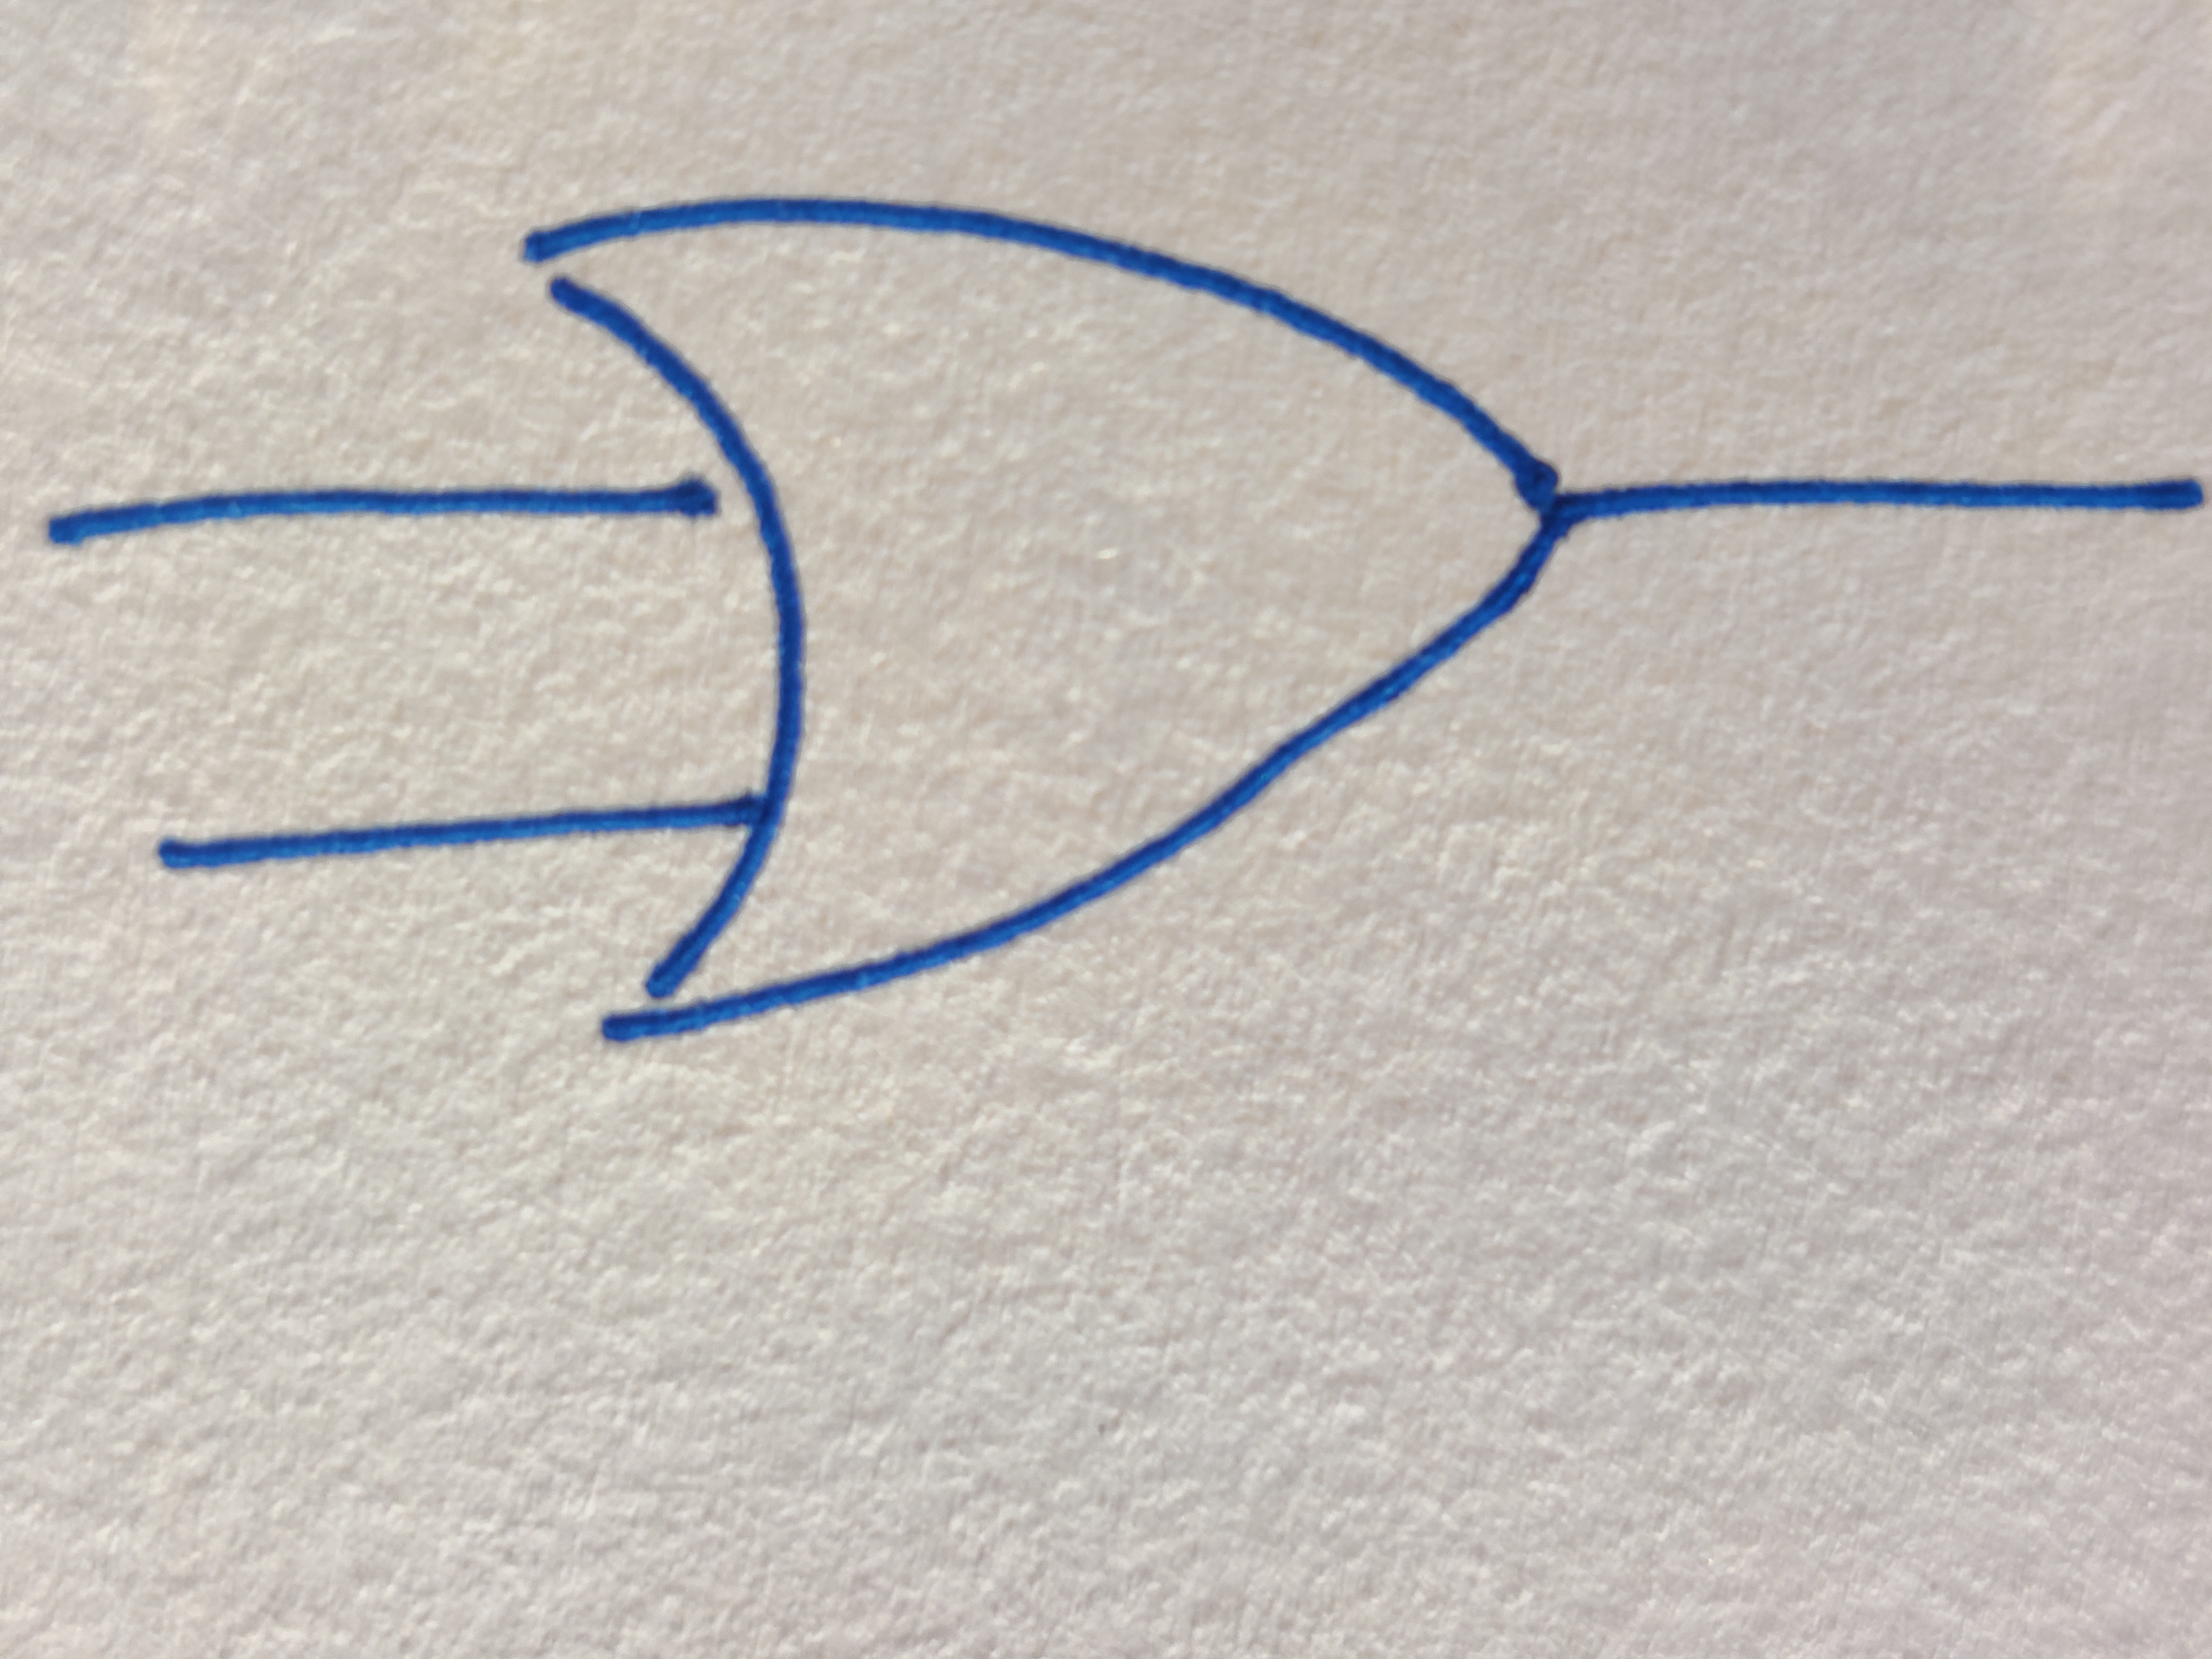or: (524, 200, 1571, 1046)
